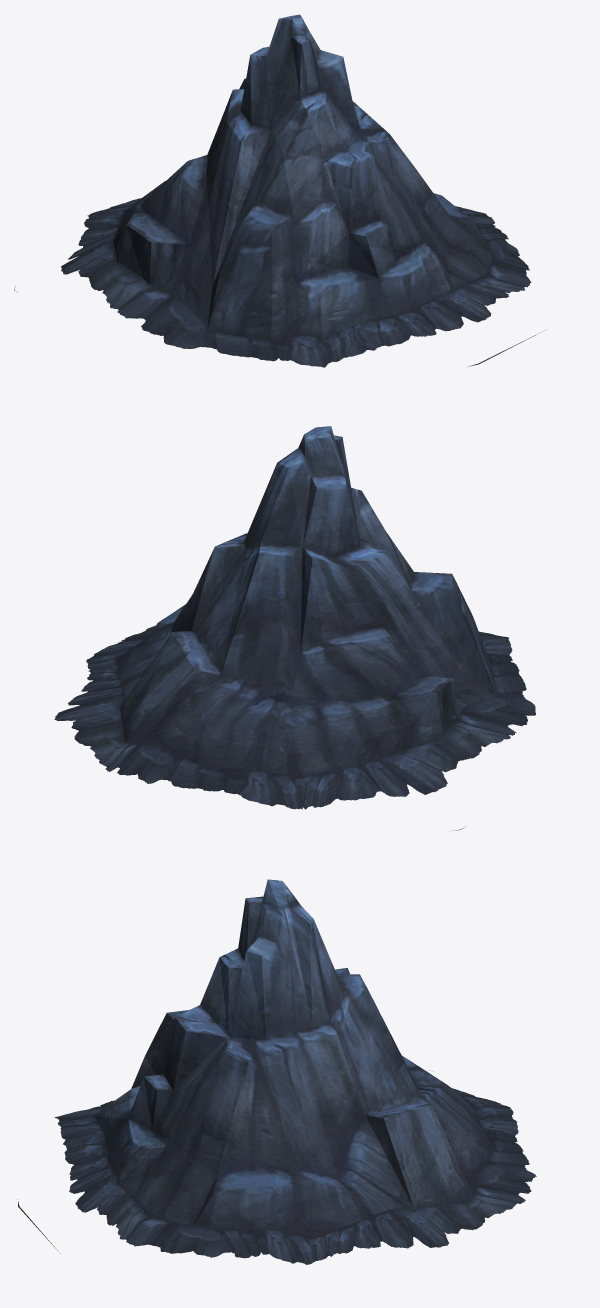
Rendered from mine_free_footer_02.fbx.
3 renders of one model, top to bottom at view 1: azimuth 30°, elevation 25°; view 2: azimuth 150°, elevation 25°; view 3: azimuth 270°, elevation 25°, orthographic. The views are drawn at different scales.
Parts seen in each view (by area): view 1: mine_tileset/rock01_mat; view 2: mine_tileset/rock01_mat; view 3: mine_tileset/rock01_mat.
Part boxes in pixels (x1,y1,x2,y2): mine_tileset/rock01_mat: [14, 14, 546, 367]; mine_tileset/rock01_mat: [54, 426, 535, 830]; mine_tileset/rock01_mat: [17, 879, 536, 1264].
Size of the model in its own units: 5.39 by 3.09 by 5.46.
